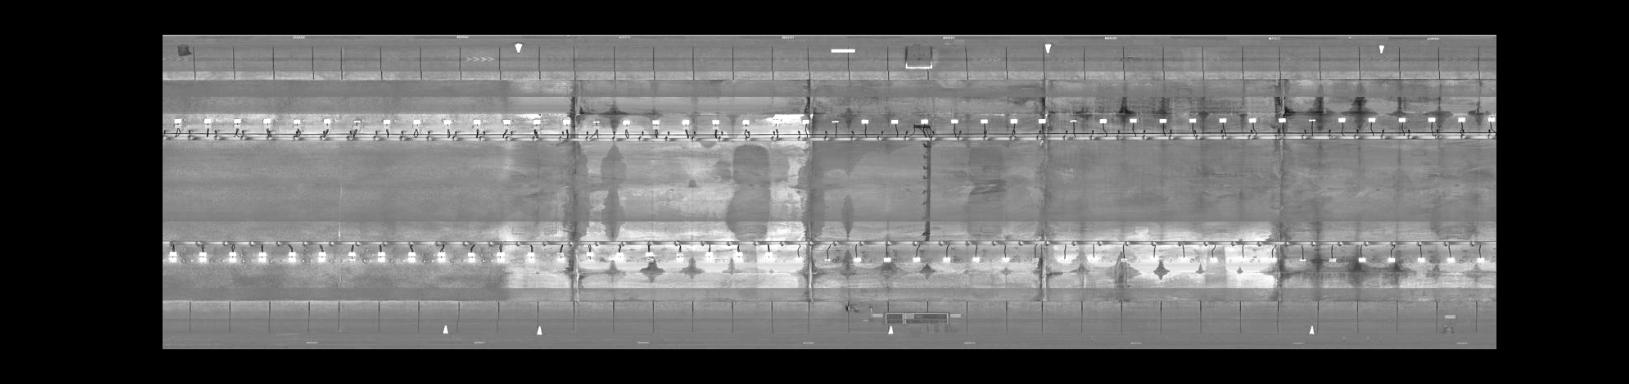light: (404, 248, 422, 266), (339, 249, 358, 264), (577, 250, 600, 262), (372, 250, 391, 265), (522, 250, 541, 263), (766, 115, 784, 128), (434, 249, 450, 264), (1412, 253, 1428, 267), (1471, 254, 1489, 267), (1026, 254, 1044, 267), (409, 114, 427, 127), (313, 250, 330, 263), (1323, 255, 1341, 267), (282, 250, 300, 262), (646, 115, 662, 129), (492, 250, 508, 264), (1154, 115, 1171, 128), (559, 115, 576, 128), (611, 250, 629, 262), (670, 250, 685, 264), (463, 251, 478, 265), (759, 251, 775, 264), (552, 252, 567, 265), (349, 115, 368, 126), (255, 250, 270, 263), (938, 255, 955, 267), (194, 251, 211, 263), (1382, 254, 1399, 265), (1352, 256, 1369, 267), (1085, 254, 1102, 265), (497, 117, 514, 128), (259, 117, 276, 128), (169, 115, 187, 126), (530, 116, 543, 130), (617, 115, 632, 128), (640, 250, 655, 263), (165, 250, 180, 263), (738, 116, 753, 128), (1114, 255, 1132, 265), (228, 116, 246, 126), (222, 250, 241, 259), (1035, 115, 1051, 126), (468, 115, 484, 126), (1214, 114, 1228, 127), (702, 249, 715, 263), (379, 115, 393, 128), (1363, 114, 1378, 126), (1204, 253, 1219, 265), (1054, 255, 1072, 265), (848, 255, 865, 265), (1244, 115, 1259, 126), (885, 115, 901, 126), (707, 117, 723, 128), (438, 117, 454, 128), (1304, 115, 1320, 125), (288, 117, 304, 127), (1274, 114, 1288, 125), (969, 254, 984, 265), (908, 255, 924, 265), (1296, 253, 1308, 265), (1007, 115, 1020, 126), (997, 254, 1011, 265), (880, 255, 893, 266), (677, 118, 691, 129), (589, 117, 603, 128), (320, 115, 333, 126), (1147, 252, 1161, 262), (1444, 254, 1457, 265), (1125, 116, 1141, 125), (1093, 116, 1109, 125), (732, 250, 745, 260), (201, 115, 213, 126), (977, 116, 991, 125), (947, 115, 962, 124), (790, 255, 804, 264), (1425, 115, 1437, 126), (1186, 116, 1199, 126), (1176, 254, 1192, 262), (1454, 115, 1468, 124), (1335, 115, 1348, 124), (1265, 255, 1279, 264), (1236, 254, 1250, 263), (820, 256, 834, 264), (858, 118, 873, 126), (797, 118, 811, 126), (1483, 115, 1495, 124), (1396, 115, 1408, 124), (829, 118, 842, 126), (918, 117, 932, 124), (1067, 117, 1079, 124)
